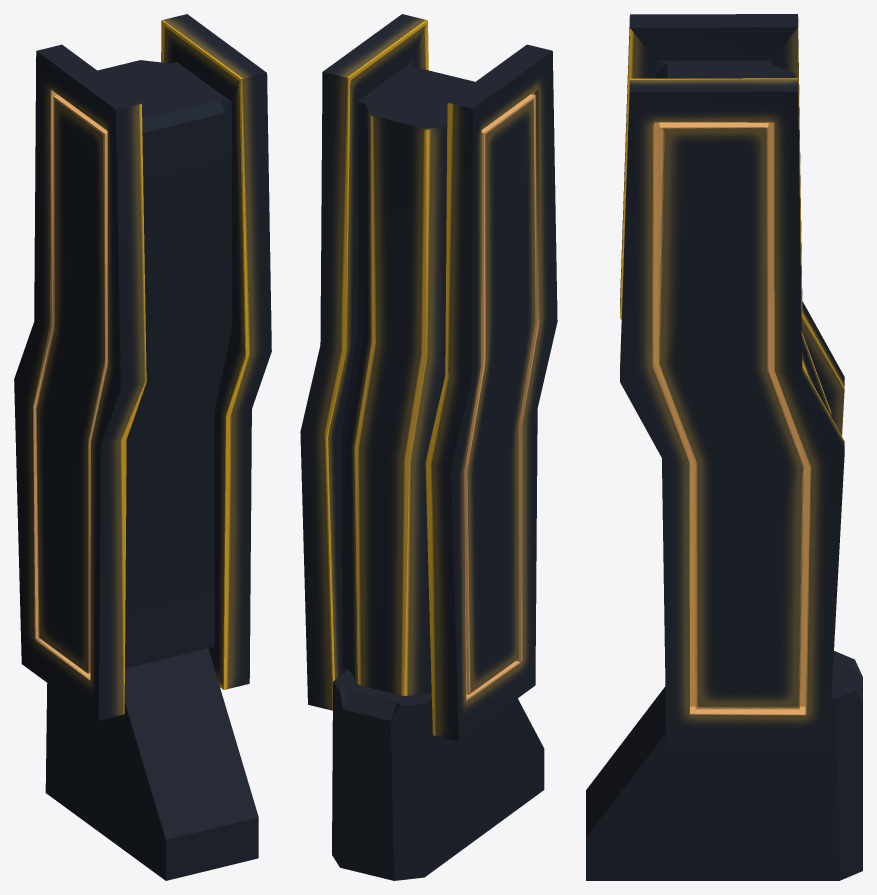
File: tower2.fbx
3 renders of one model, left to right at view 1: azimuth 30°, elevation 25°; view 2: azimuth 150°, elevation 25°; view 3: azimuth 270°, elevation 25°, orthographic. The views are drawn at different scales.
Visible parts, largest first — view 1: pCube5; view 2: pCube5; view 3: pCube5.
Part boxes in pixels (left/top/right/bottom): pCube5: left=14, top=14, right=271, bottom=880; pCube5: left=300, top=14, right=557, bottom=880; pCube5: left=586, top=14, right=862, bottom=880.
Bounding box in the file's own units: 14.68 × 70.89 × 22.1.
